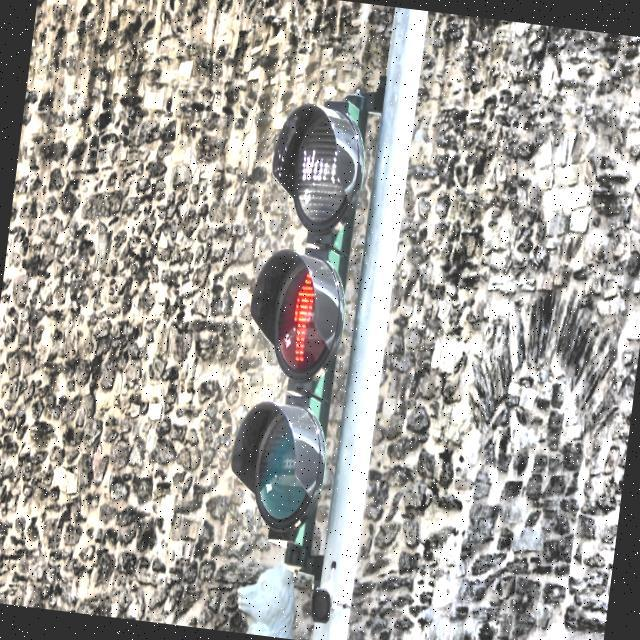red_light: (285, 265, 319, 367)
